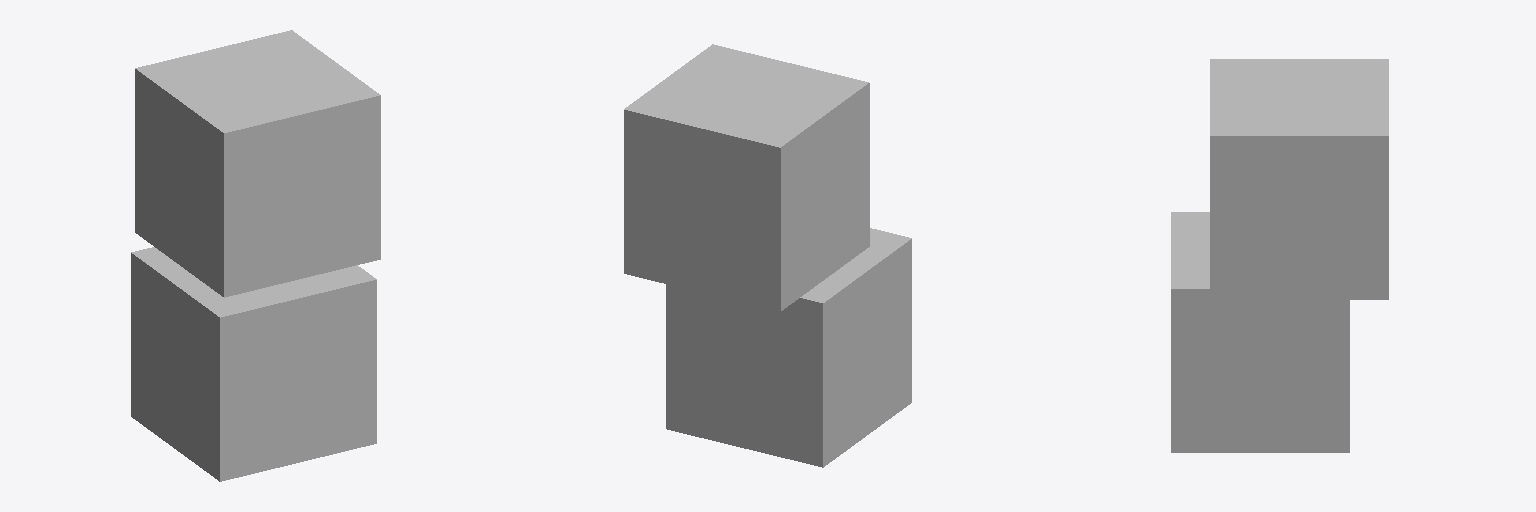
File: boxes.obj
The picture shows the model from 3 angles: view 1: azimuth 30°, elevation 25°; view 2: azimuth 150°, elevation 25°; view 3: azimuth 270°, elevation 25°; orthographic projection.
Parts seen in each view (by area): view 1: Box02, Box01; view 2: Box02, Box01; view 3: Box02, Box01.
Boxes of the visible parts, box(x1,y1,x2,y2) form: Box02: box(135, 30, 380, 297); Box01: box(131, 247, 376, 481); Box02: box(624, 44, 869, 311); Box01: box(666, 228, 911, 467); Box02: box(1210, 59, 1388, 299); Box01: box(1171, 212, 1349, 452).
Size of the model in its own units: 139 by 242 by 145.